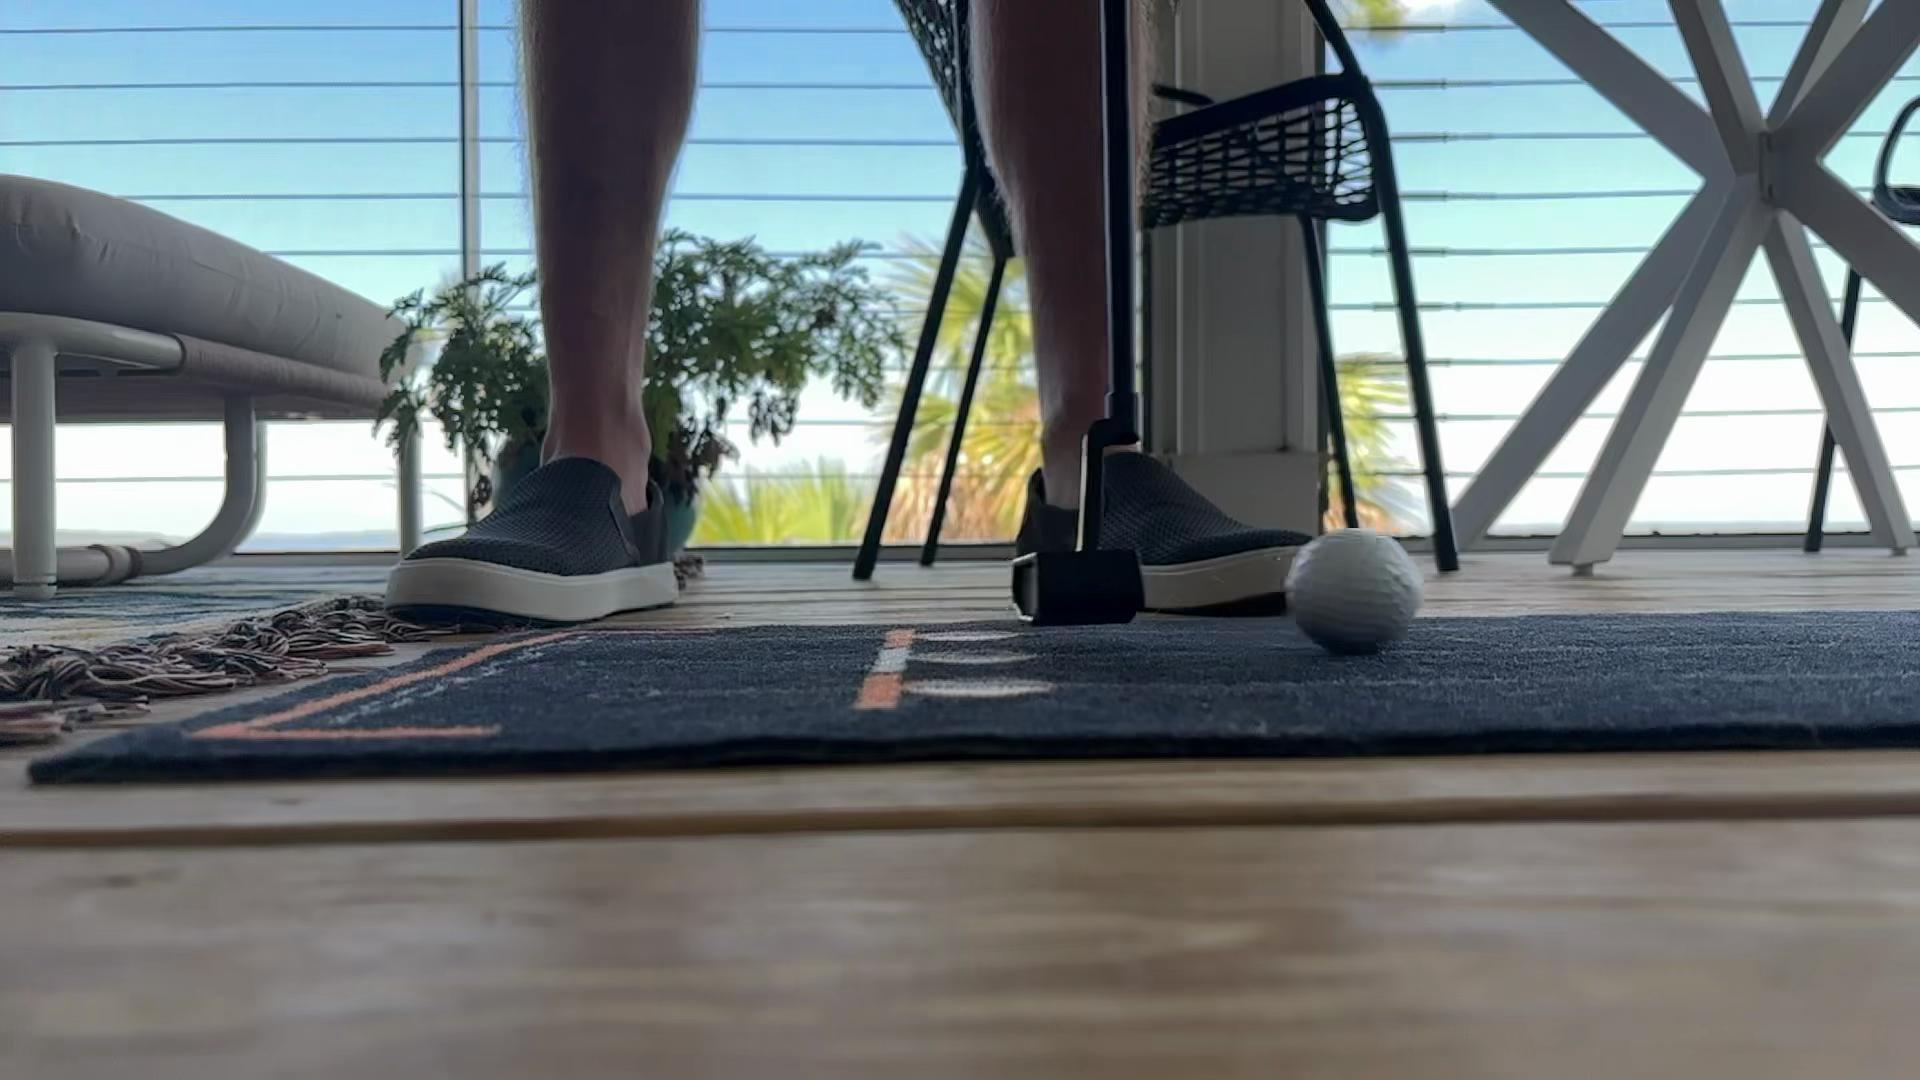golfball: (1281, 530, 1426, 653)
